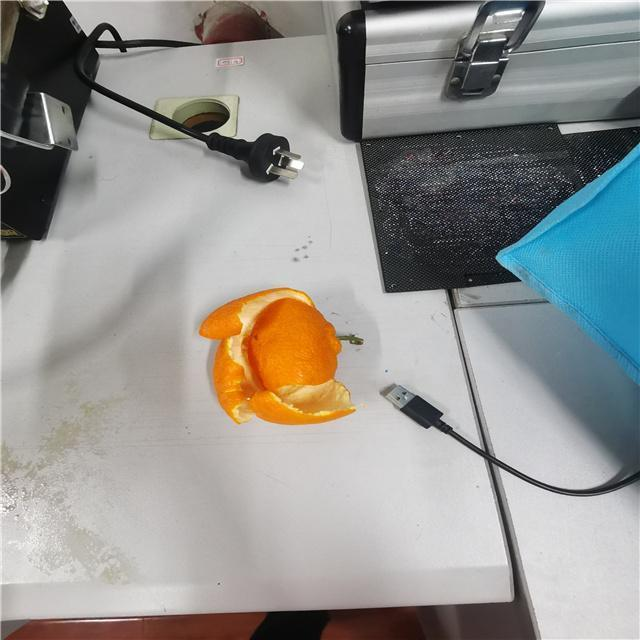orange peel: (193, 284, 373, 428)
